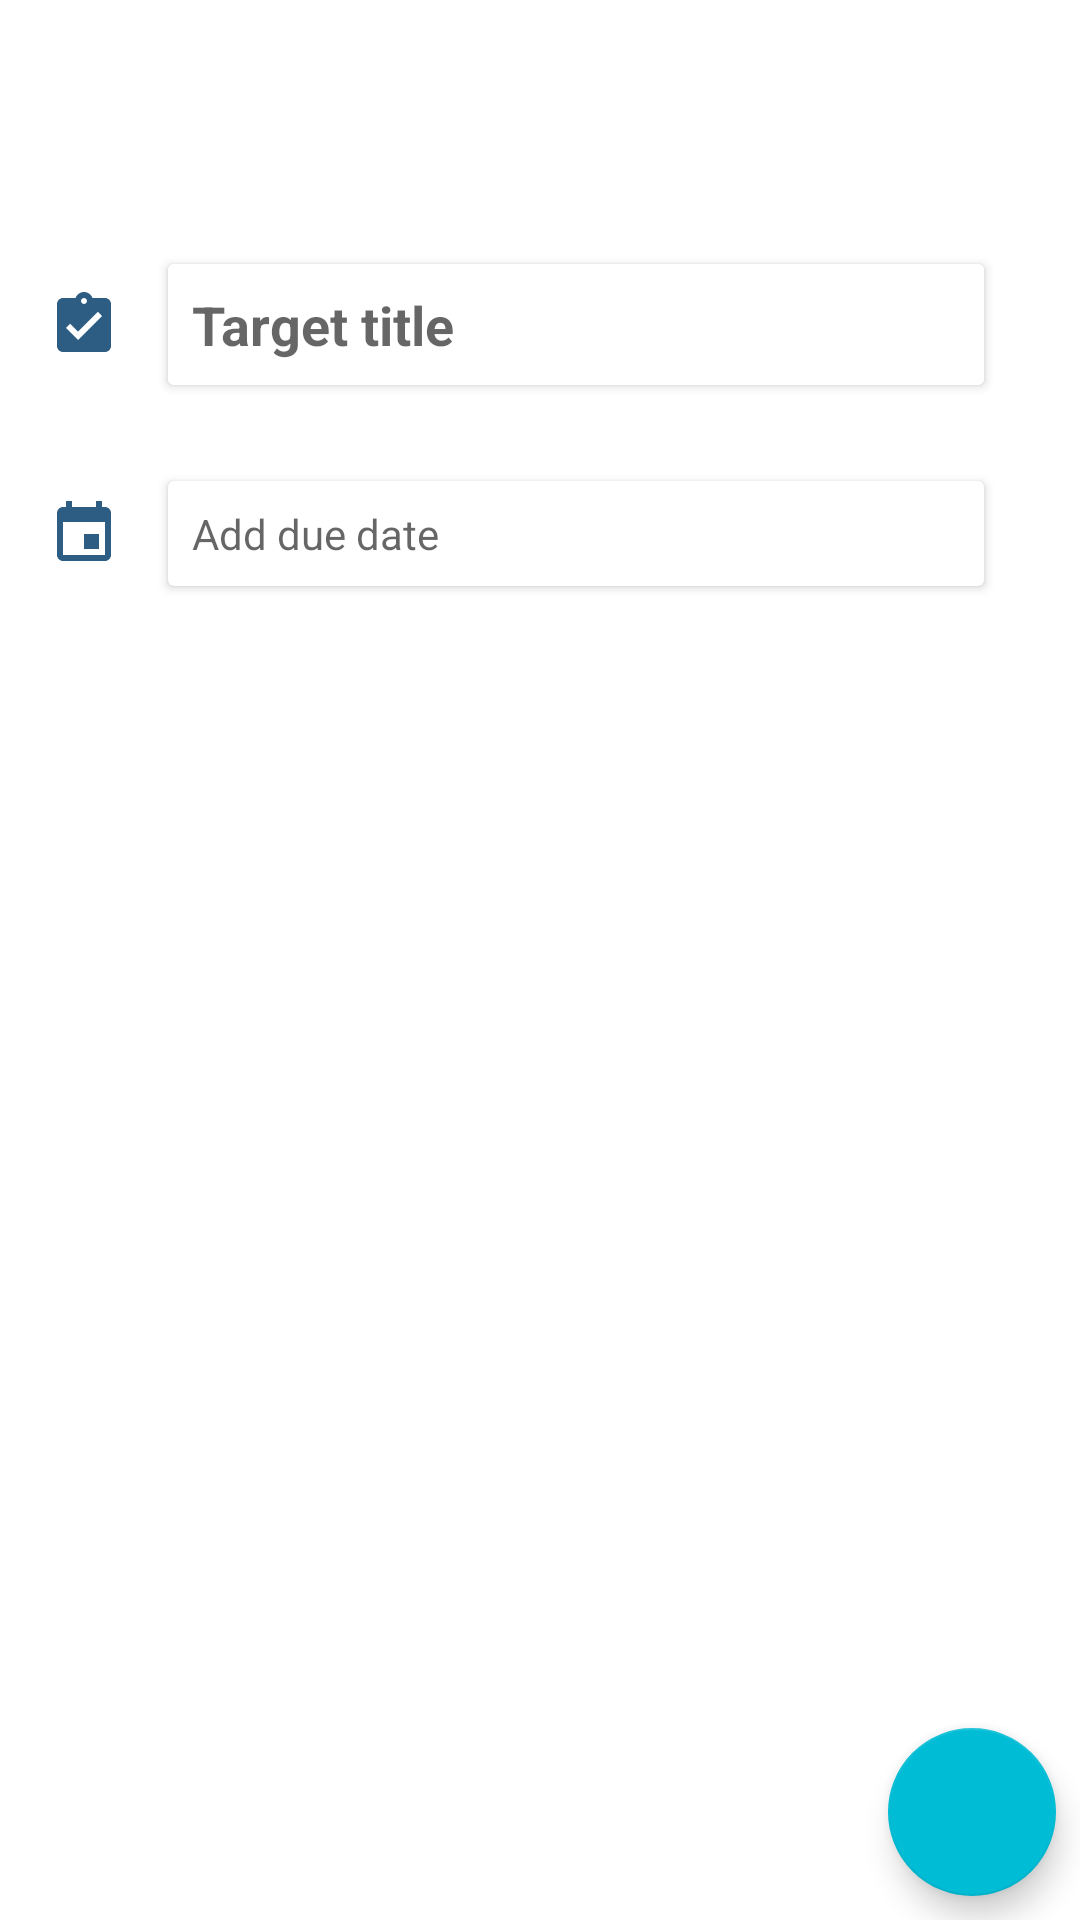

Named icons in this screenshot (1080 x 1920) and their bounding boxes, bbox=(x1, y1, x2, y2):
event: bbox=(57, 501, 111, 561)
